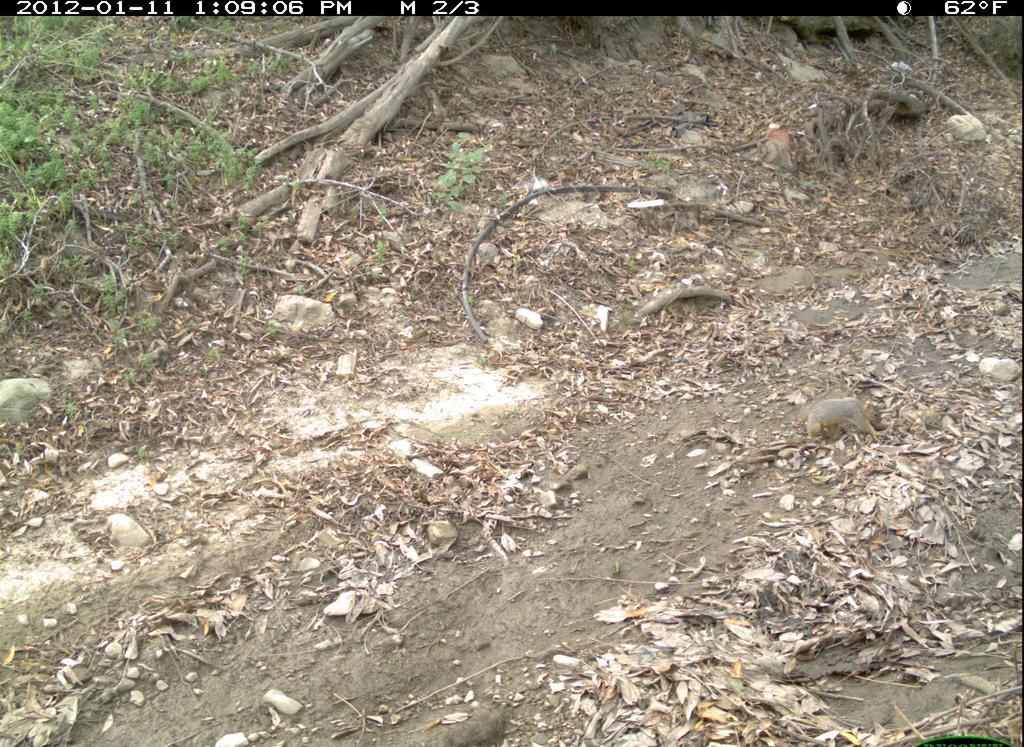squirrel: (792, 388, 894, 445)
